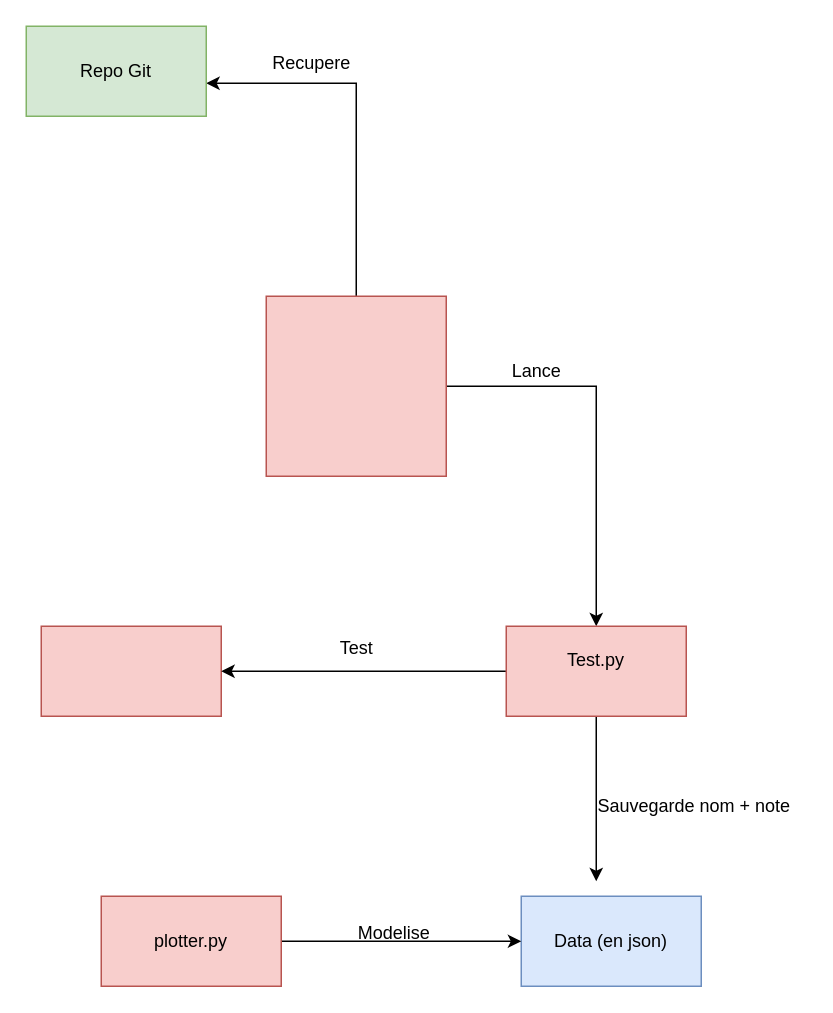
This 833x1013 diagram has some shape labels left out. Each missing label, with the centre of its shape:
Main.py: pixel 355 385
Solution.py: pixel 130 670
